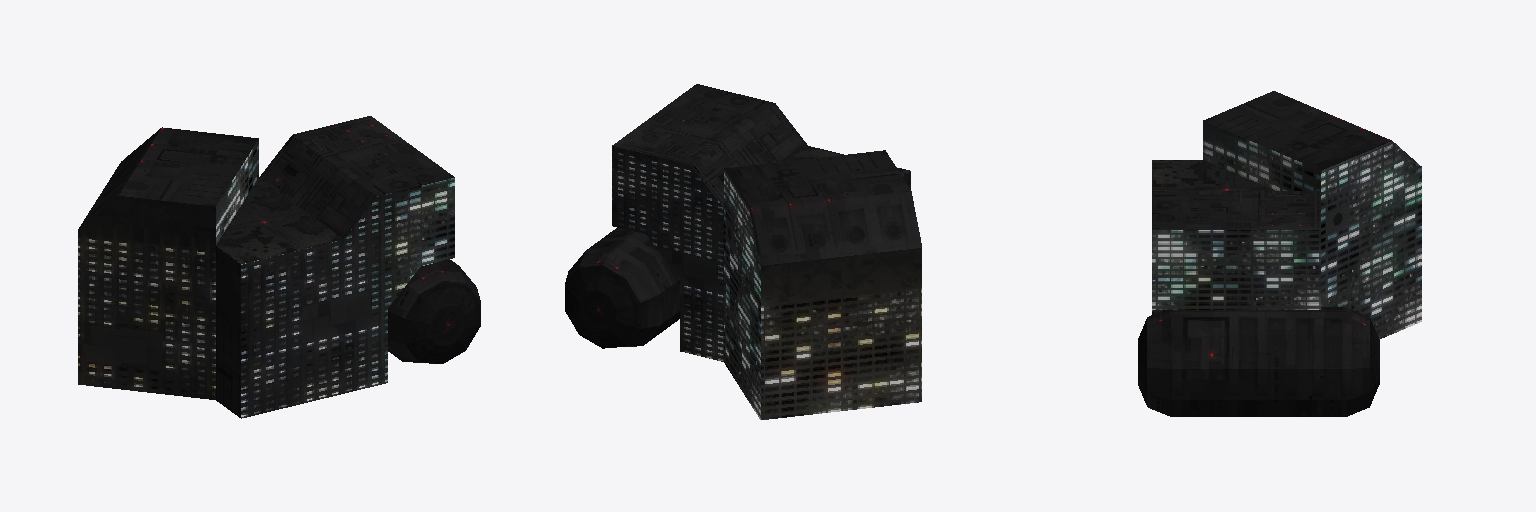
3 renders of one model, left to right at view 1: azimuth 30°, elevation 25°; view 2: azimuth 150°, elevation 25°; view 3: azimuth 270°, elevation 25°, orthographic.
Visible parts, largest first — view 1: building_50; view 2: building_50; view 3: building_50.
Boxes of the visible parts, <box> form: building_50: <box>78,116,480,418</box>; building_50: <box>565,84,921,419</box>; building_50: <box>1138,91,1421,416</box>.
Bounding box in the file's own units: 151 × 83.93 × 112.
1 materials, 1 textured.